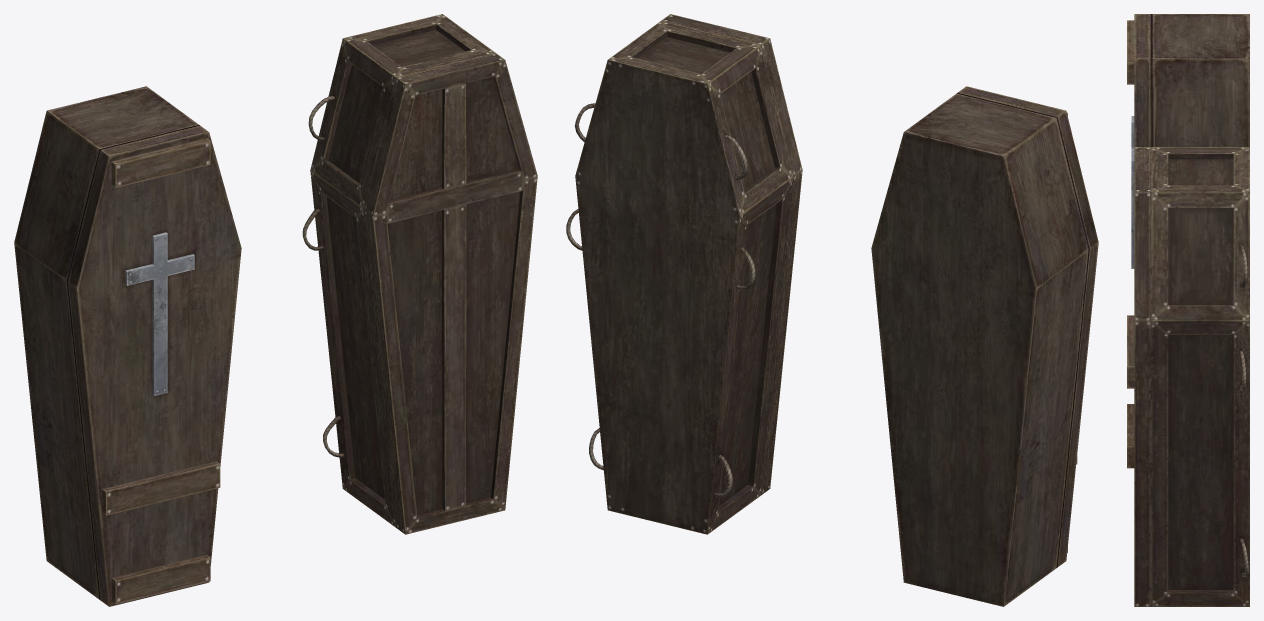
Rendered from coffins.glb.
3 renders of one model, left to right at view 1: azimuth 30°, elevation 25°; view 2: azimuth 150°, elevation 25°; view 3: azimuth 270°, elevation 25°, orthographic. The views are drawn at different scales.
Parts seen in each view (by area): view 1: low_rope_coffin2_0, low3_coffin1_0; view 2: low_rope_coffin2_0, low3_coffin1_0; view 3: low_rope_coffin2_0, low3_coffin1_0.
Boxes of the visible parts, x1=… form: low_rope_coffin2_0: x1=302, y1=14, x2=537, y2=534; low3_coffin1_0: x1=14, y1=86, x2=241, y2=606; low_rope_coffin2_0: x1=566, y1=14, x2=802, y2=534; low3_coffin1_0: x1=871, y1=86, x2=1098, y2=606; low_rope_coffin2_0: x1=1134, y1=147, x2=1249, y2=606; low3_coffin1_0: x1=1127, y1=14, x2=1249, y2=468.
Size of the model in its own units: 223 by 204 by 54.54.
Materials: 2 (2 with a texture image).
